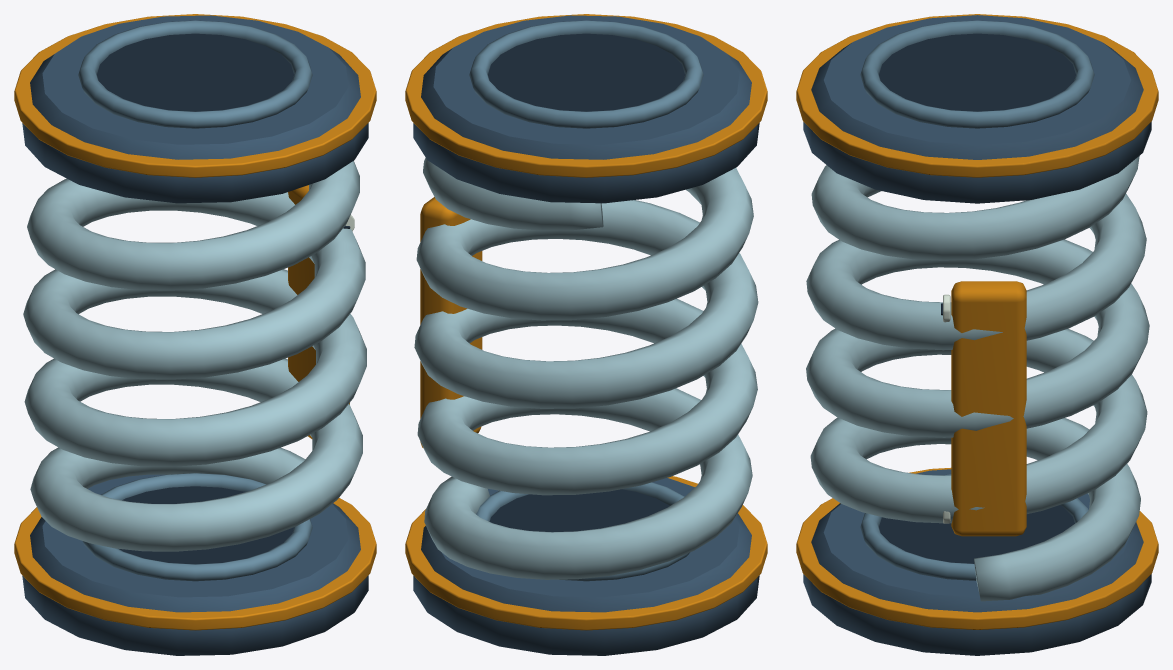
Rendered from idle_spring.glb.
3 renders of one model, left to right at view 1: azimuth 30°, elevation 25°; view 2: azimuth 150°, elevation 25°; view 3: azimuth 270°, elevation 25°, orthographic.
Parts seen in each view (by area): view 1: idle_spring_runtime; view 2: idle_spring_runtime; view 3: idle_spring_runtime.
Part boxes in pixels (x1=…): idle_spring_runtime: x1=14, y1=14, x2=376, y2=655; idle_spring_runtime: x1=405, y1=14, x2=767, y2=655; idle_spring_runtime: x1=796, y1=14, x2=1158, y2=655.
Bounding box in the file's own units: 0.8145 × 1.3 × 0.8145.
Materials: 1 (1 with a texture image).
